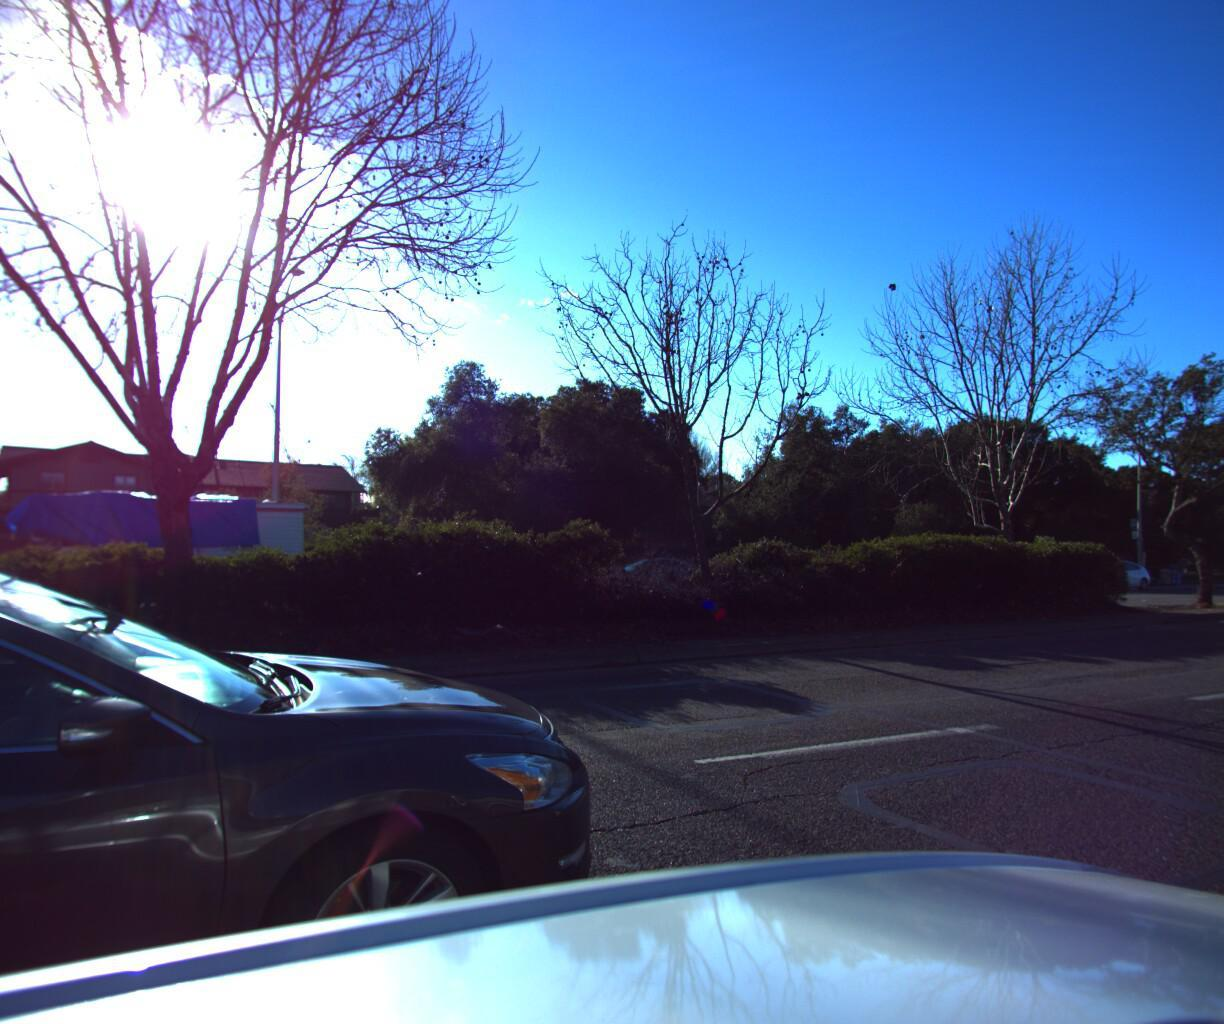car: (0, 533, 664, 1024), (1060, 553, 1152, 588)
other_vehicle: (0, 477, 324, 629)
